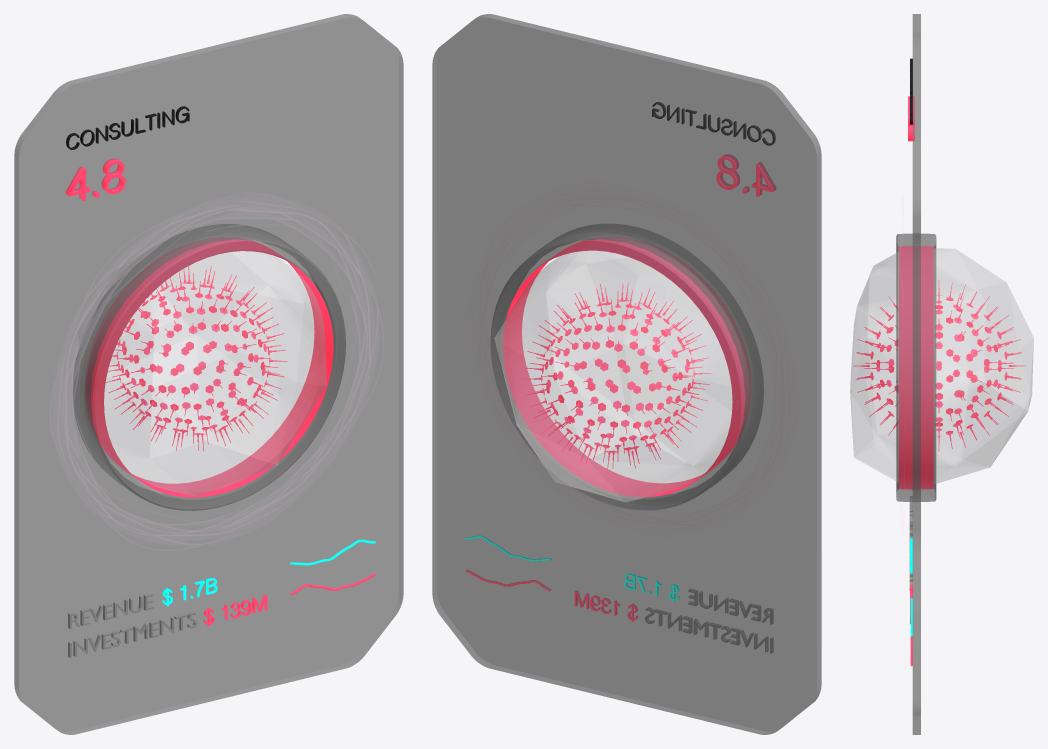
3 renders of one model, left to right at view 1: azimuth 30°, elevation 25°; view 2: azimuth 150°, elevation 25°; view 3: azimuth 270°, elevation 25°, orthographic. The views are drawn at different scales.
Parts seen in each view (by area): view 1: baseRed, Glass.001, cornerRed, neon-corner.001, neon-sphere.002, Text.023, Text.024, Text.025, neon-rimRed, Text.010, Text.021; view 2: baseRed, Glass.001, cornerRed, neon-corner.001, neon-sphere.002, Text.023, Text.024, Text.025, Text.010, Text.026; view 3: Glass.001, cornerRed, neon-corner.001, baseRed, neon-sphere.002.
Part boxes in pixels (x1=…): baseRed: x1=14, y1=14, x2=403, y2=734; Glass.001: x1=104, y1=251, x2=326, y2=495; cornerRed: x1=73, y1=224, x2=345, y2=510; neon-corner.001: x1=85, y1=237, x2=333, y2=497; neon-sphere.002: x1=105, y1=266, x2=287, y2=451; Text.023: x1=66, y1=106, x2=189, y2=149; Text.024: x1=65, y1=158, x2=125, y2=200; Text.025: x1=68, y1=612, x2=196, y2=657; neon-rimRed: x1=66, y1=203, x2=370, y2=536; Text.010: x1=70, y1=611, x2=196, y2=656; Text.021: x1=203, y1=595, x2=267, y2=626; baseRed: x1=432, y1=14, x2=821, y2=734; Glass.001: x1=494, y1=251, x2=732, y2=502; cornerRed: x1=490, y1=224, x2=763, y2=510; neon-corner.001: x1=503, y1=237, x2=750, y2=497; neon-sphere.002: x1=524, y1=283, x2=711, y2=469; Text.023: x1=652, y1=102, x2=775, y2=145; Text.024: x1=716, y1=154, x2=775, y2=196; Text.025: x1=645, y1=608, x2=773, y2=653; Text.010: x1=645, y1=607, x2=766, y2=651; Text.026: x1=688, y1=590, x2=773, y2=624; Glass.001: x1=850, y1=248, x2=1033, y2=483; cornerRed: x1=896, y1=233, x2=936, y2=501; neon-corner.001: x1=899, y1=246, x2=933, y2=489; baseRed: x1=912, y1=14, x2=920, y2=734; neon-sphere.002: x1=853, y1=280, x2=1024, y2=451.
Bounding box in the file's own units: 1.47 × 2.38 × 0.666.
10 materials, 1 textured.
